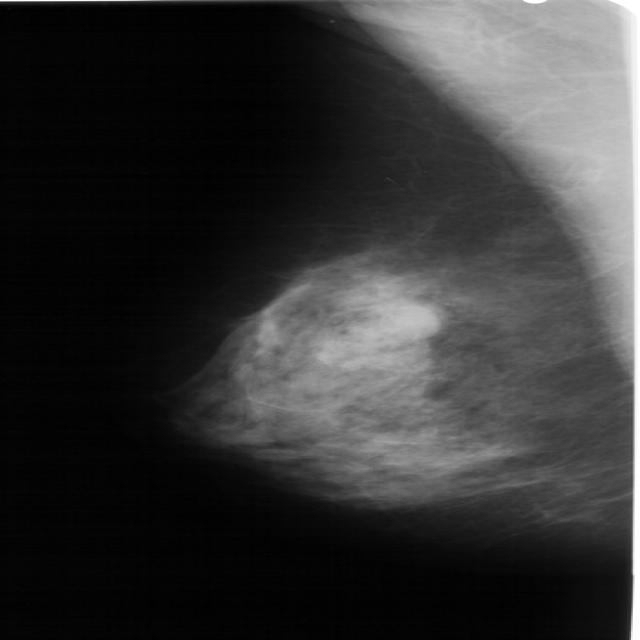tumour: (368, 302, 437, 339)
